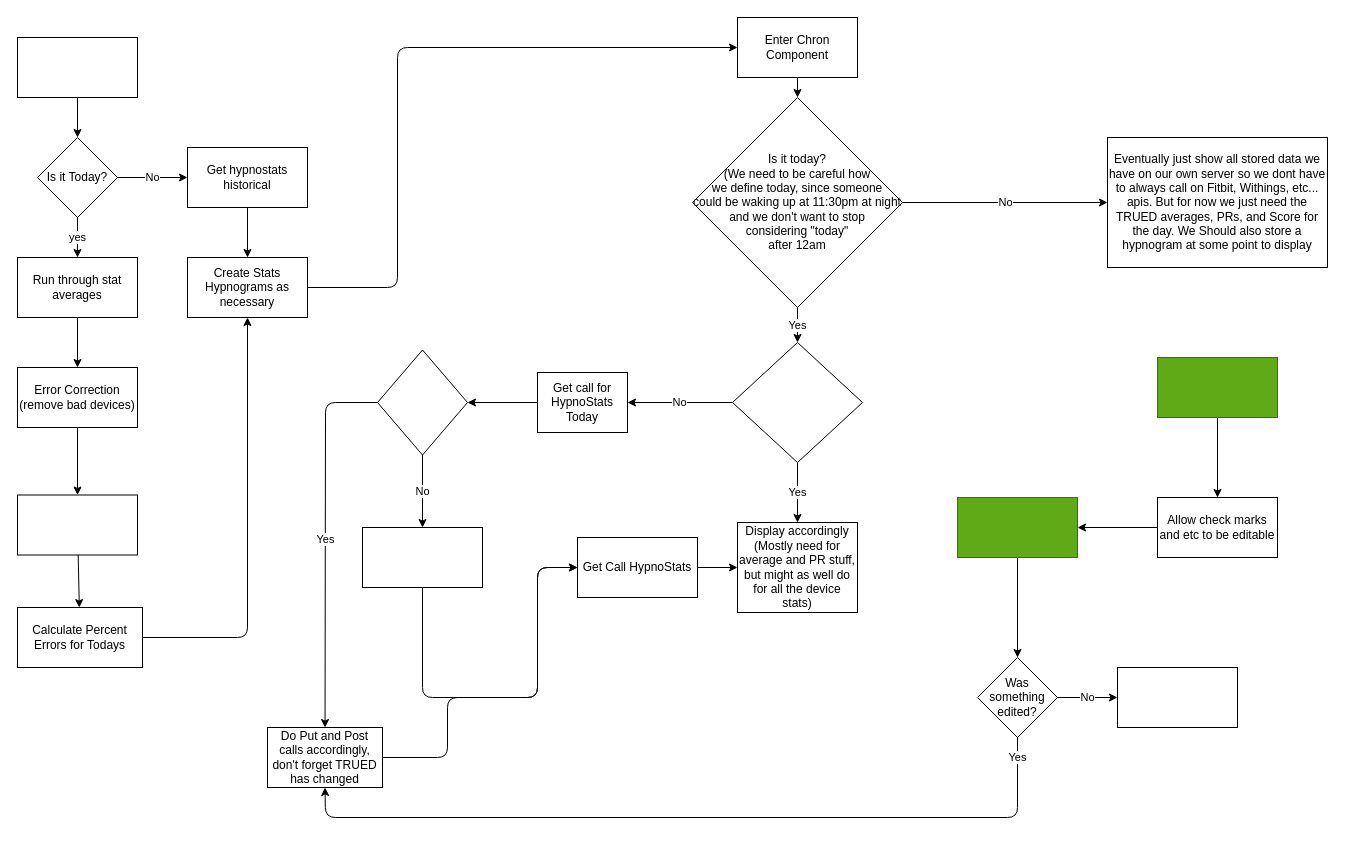
The diagram is 1345 pixels wide and 843 high, and some of its shapes have lost their labels. The centre of each missing label's shape, as x and y in pixels:
Do all of the post calls: point (422, 557)
Do nothing: point (1177, 697)
Enter Hypnograph Component: point (77, 67)
Hypnostats exist for every device today? (including TRUED): point (797, 402)
Press Badge to make edits: point (1217, 387)
Press Badge to save changes: point (1017, 527)
Some already posted for today?: point (422, 402)
Use last known HypnoStat for Each Device to Bias to Create TRUED: point (77, 524)
